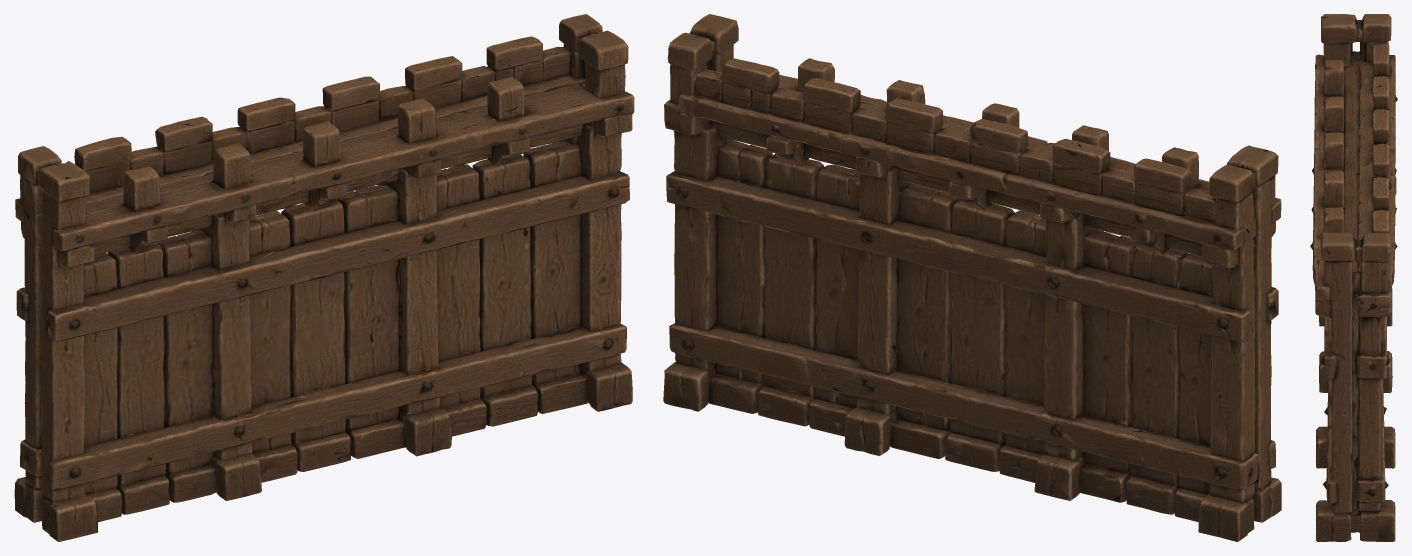
The model's file is wall_large.glb.
The picture shows the model from 3 angles, left to right: view 1: azimuth 30°, elevation 25°; view 2: azimuth 150°, elevation 25°; view 3: azimuth 270°, elevation 25°; orthographic projection. The views are drawn at different scales.
Size of the model in its own units: 1.9 by 1.13 by 0.3005.
Materials: 1 (1 with a texture image).
